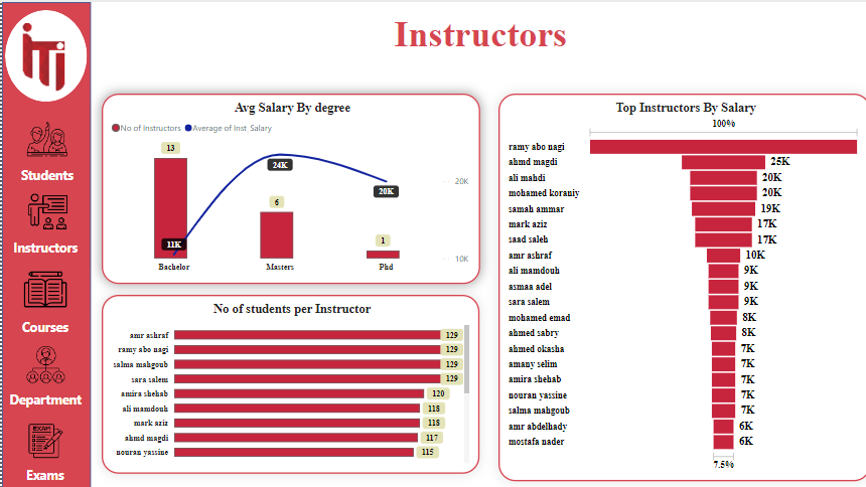

What the dashboard file says about the page in this screenshot:
{"tool":"powerbi","page":{"name":"Instructors","canvas":[1280,720],"ordinal":15},"visuals":[{"type":"textbox","box":[544.3,11.4,321.4,98.6],"z":0},{"type":"image","box":[7.2,272.1,119.5,72],"z":0,"group":"g1"},{"type":"shape","box":[0,0,131,720],"z":1000},{"type":"image","box":[5.7,167,121,69.1],"z":1000,"group":"g1"},{"type":"shape","box":[4.3,11.5,121,135.4],"z":2000},{"type":"textbox","box":[11.5,236.1,109.4,36],"z":2000,"group":"g1"},{"type":"image","box":[0,11.5,125.3,123.8],"z":3000},{"type":"textbox","box":[1.4,344.1,125.3,43.2],"z":3000,"group":"g1"},{"type":"lineStackedColumnComboChart","title":"Avg Salary By degree","fields":{"Category":["Dim_Instructor.Inst_Degree"],"Y2":["Avg(Dim_Instructor.Inst_Salary)"],"Y":["Measures (2).No of Instructors"]},"box":[147,135.5,557.8,281.1],"z":4000},{"type":"image","box":[1.4,387.3,125.3,73.4],"z":4000,"group":"g1"},{"type":"clusteredBarChart","title":"No of students per Instructor","fields":{"Category":["Dim_Instructor.InstructorName"],"Y":["Measures (2).NumberOfStudentsPerInstructor"]},"box":[146.9,432,557.3,263.5],"z":5000},{"type":"image","box":[1.4,613.4,125.3,66.2],"z":5000,"group":"g1"},{"type":"funnel","title":"Top Instructors By Salary","fields":{"Category":["Dim_Instructor.InstructorName"],"Y":["Sum(Dim_Instructor.Inst_Salary)"]},"box":[731.5,135.4,548.6,571.7],"z":6000},{"type":"textbox","box":[1.4,460.8,123.8,43.2],"z":6000,"group":"g1"},{"type":"group","id":"g1","title":"Group 1","box":[1.4,167,125.3,553],"z":7000},{"type":"textbox","box":[1.4,679.6,123.8,40.3],"z":7000,"group":"g1"},{"type":"image","box":[1.4,501.1,125.3,66.2],"z":8000,"group":"g1"},{"type":"textbox","box":[1.4,567.3,125.3,46.1],"z":9000,"group":"g1"}]}

Visuals, with their boxes in screenshot pixels (x1, y1, x2, y2), scaled from the page's 1280x720 canvas onto the 866x487 screenshot:
textbox: {"x1": 368, "y1": 8, "x2": 586, "y2": 74}
image: {"x1": 5, "y1": 184, "x2": 86, "y2": 233}
shape: {"x1": 0, "y1": 0, "x2": 89, "y2": 486}
image: {"x1": 4, "y1": 113, "x2": 86, "y2": 160}
shape: {"x1": 3, "y1": 8, "x2": 85, "y2": 99}
textbox: {"x1": 8, "y1": 160, "x2": 82, "y2": 184}
image: {"x1": 0, "y1": 8, "x2": 85, "y2": 92}
textbox: {"x1": 1, "y1": 233, "x2": 86, "y2": 262}
"Avg Salary By degree" lineStackedColumnComboChart: {"x1": 99, "y1": 92, "x2": 477, "y2": 282}
image: {"x1": 1, "y1": 262, "x2": 86, "y2": 312}
"No of students per Instructor" clusteredBarChart: {"x1": 99, "y1": 292, "x2": 476, "y2": 470}
image: {"x1": 1, "y1": 415, "x2": 86, "y2": 460}
"Top Instructors By Salary" funnel: {"x1": 495, "y1": 92, "x2": 865, "y2": 478}
textbox: {"x1": 1, "y1": 312, "x2": 85, "y2": 341}
"Group 1" group: {"x1": 1, "y1": 113, "x2": 86, "y2": 486}
textbox: {"x1": 1, "y1": 460, "x2": 85, "y2": 486}
image: {"x1": 1, "y1": 339, "x2": 86, "y2": 384}
textbox: {"x1": 1, "y1": 384, "x2": 86, "y2": 415}
